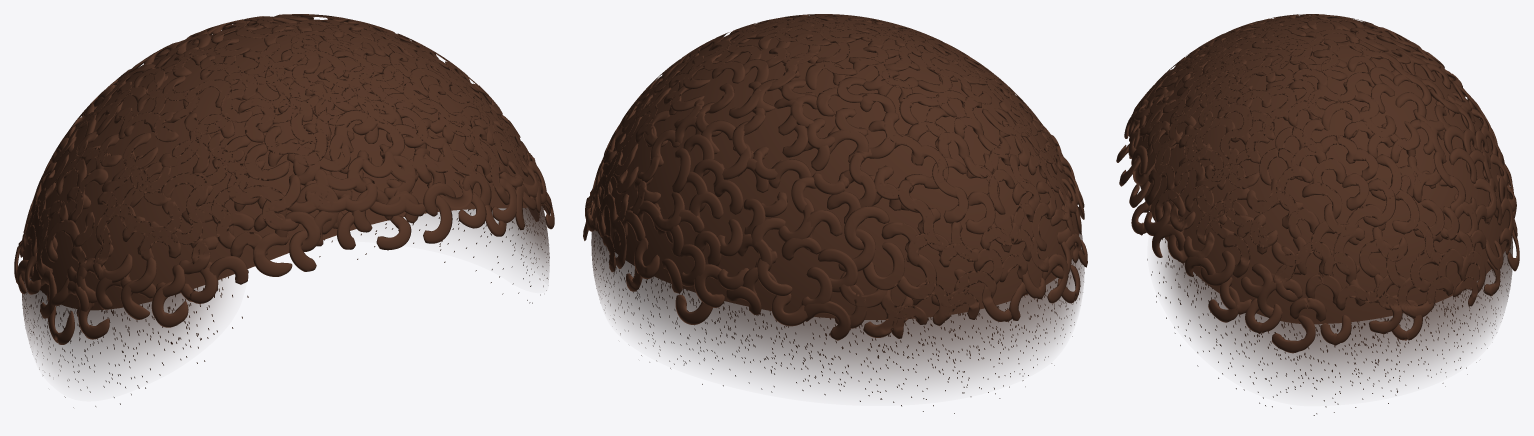
The model's file is Masculine-curly-top-cap-hair.glb.
3 views of the same model, side by side, from view 1: azimuth 30°, elevation 25°; view 2: azimuth 150°, elevation 25°; view 3: azimuth 270°, elevation 25° (orthographic). The views are drawn at different scales.
Parts seen in each view (by area): view 1: 226 hair / Hair / sculpted curl clusters227, 226 hair / Hair / curly taper density227, 226 hair / Hair / short taper grain227; view 2: 226 hair / Hair / sculpted curl clusters227, 226 hair / Hair / curly taper density227, 226 hair / Hair / short taper grain227; view 3: 226 hair / Hair / sculpted curl clusters227, 226 hair / Hair / curly taper density227, 226 hair / Hair / short taper grain227.
Boxes of the visible parts, box(x1,y1,x2,y2) form: 226 hair / Hair / sculpted curl clusters227: box(14, 14, 554, 344); 226 hair / Hair / curly taper density227: box(22, 206, 549, 378); 226 hair / Hair / short taper grain227: box(22, 207, 549, 407); 226 hair / Hair / sculpted curl clusters227: box(583, 14, 1087, 340); 226 hair / Hair / curly taper density227: box(591, 230, 1084, 386); 226 hair / Hair / short taper grain227: box(591, 233, 1084, 413); 226 hair / Hair / sculpted curl clusters227: box(1116, 14, 1519, 353); 226 hair / Hair / curly taper density227: box(1157, 235, 1512, 387); 226 hair / Hair / short taper grain227: box(1147, 235, 1512, 415).
Bounding box in the file's own units: 0.9976 × 0.6318 × 0.801.
